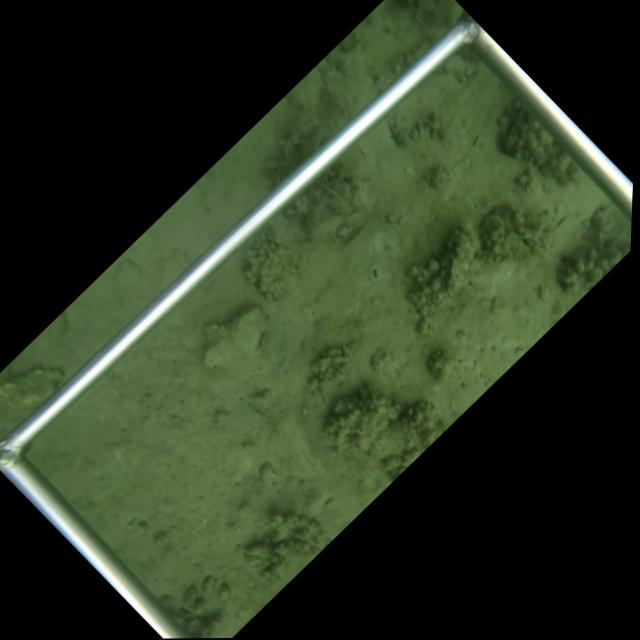Oyster-Indeterminate: (0, 364, 65, 412), (228, 300, 271, 361), (443, 226, 477, 301)
